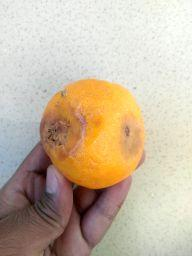Ripe: (39, 81, 147, 185)
